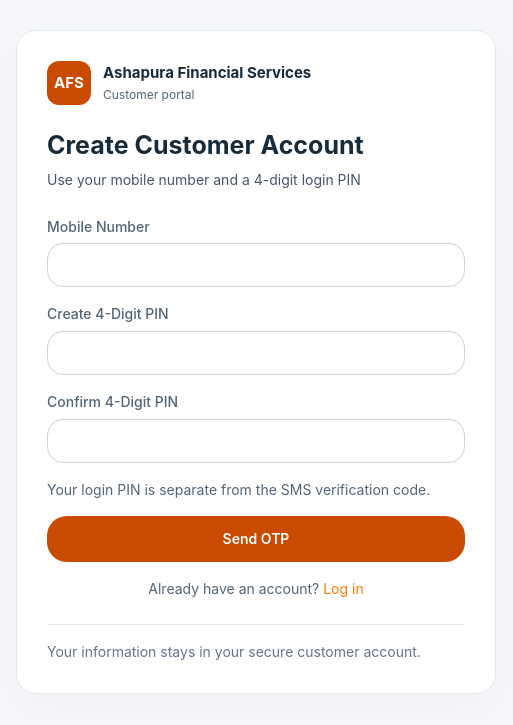
Test: Customer registration › rejects mismatching PINs before sending
Type "9000000088" into the field labelled "Mobile Number". click: (256,265)
box: [47,243,465,287]
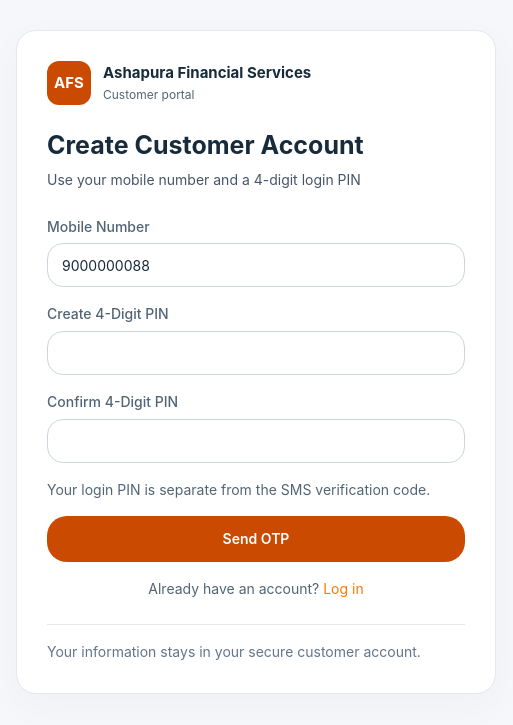
Type "0472" into the password field labelled "Create 4-Digit PIN". click: (256,353)
box: [47,331,465,375]
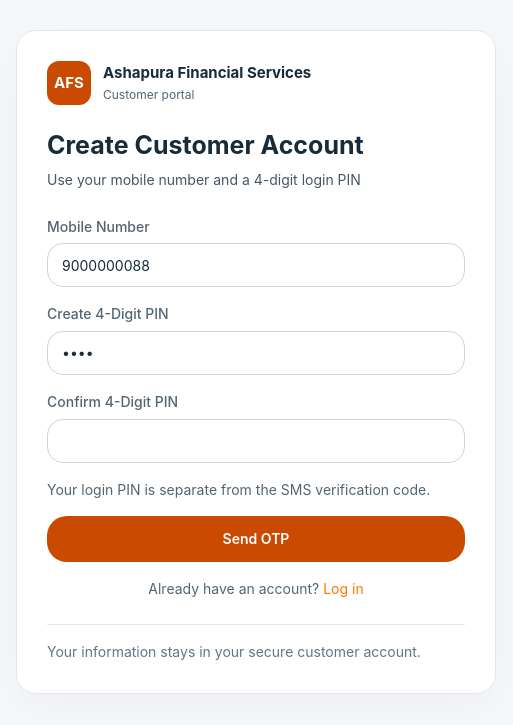
Type "9999" into the password field labelled "Confirm 4-Digit PIN". click: (256,441)
box: [47,419,465,463]
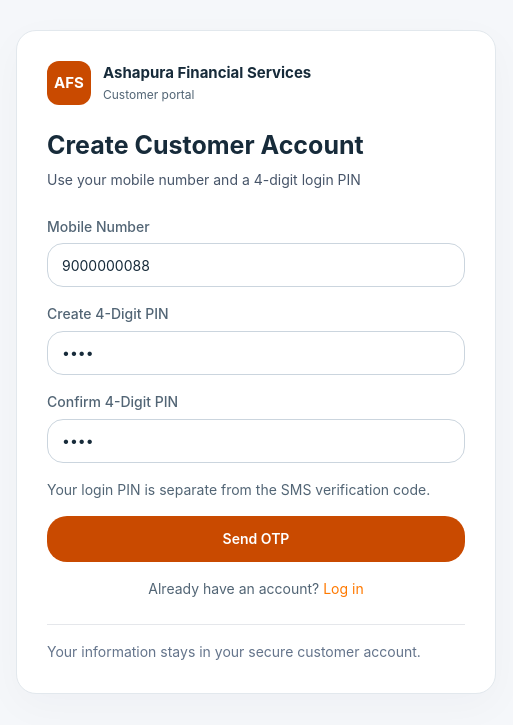
Click the button "Send OTP". click: (256,539)
box: [47,516,465,562]
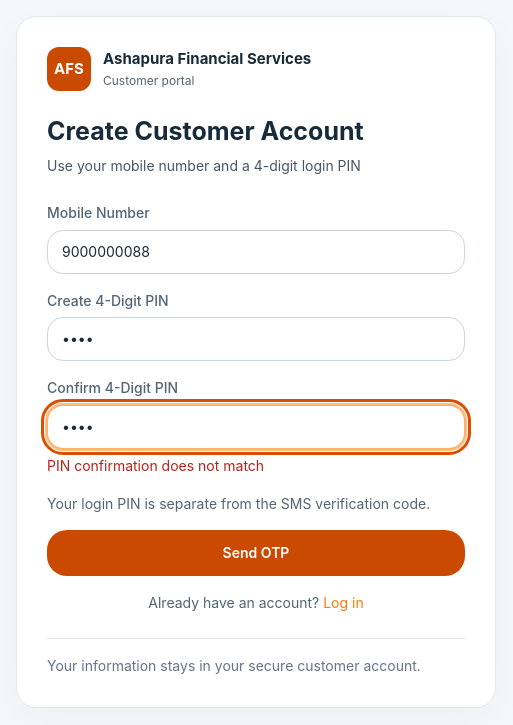
Now the text "PIN confirmation does not match" is shown, box [47,457,264,474]
